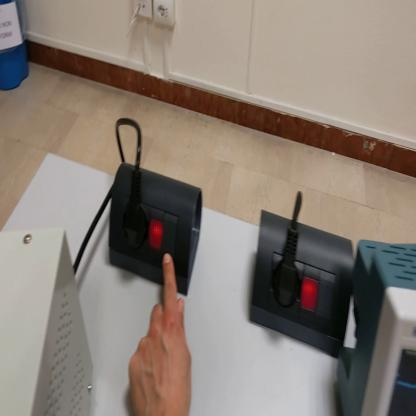hand: (128, 254, 193, 416)
oscilloscope: (335, 237, 416, 416)
power supply: (2, 235, 99, 416)
socket: (248, 206, 356, 359), (106, 164, 205, 298)
